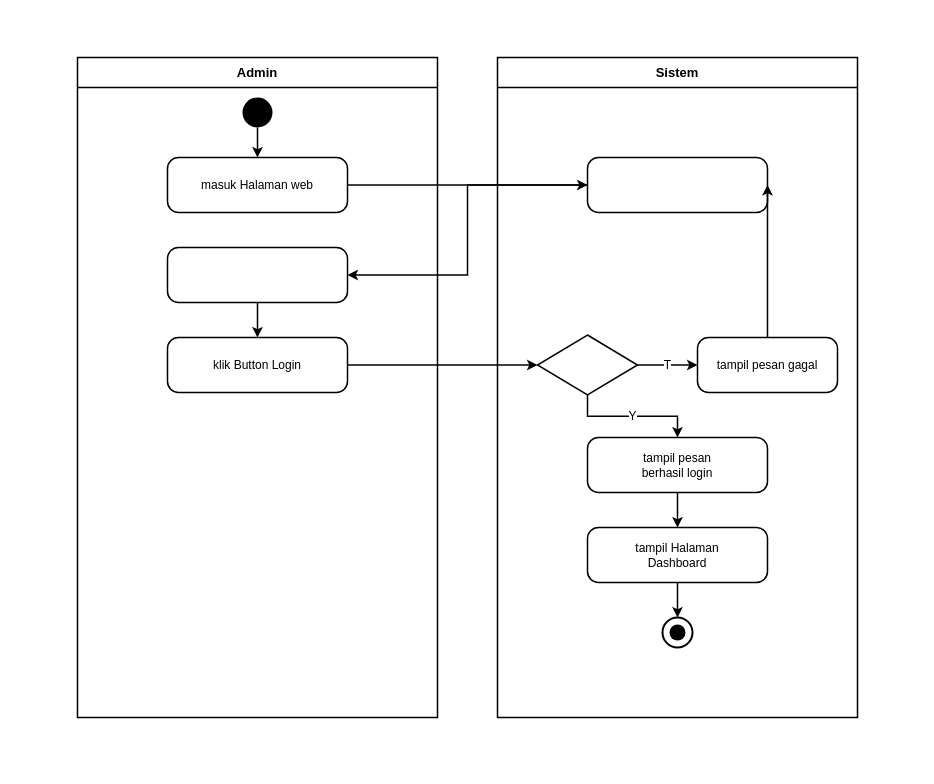
Image size: 934x784. Some labels were removed from this diagram. The centre of each missing label's shape, as x and y in pixels:
memasukan username dan password: (x=257, y=274)
tampil form Login: (x=677, y=184)
validasi: (x=587, y=364)
